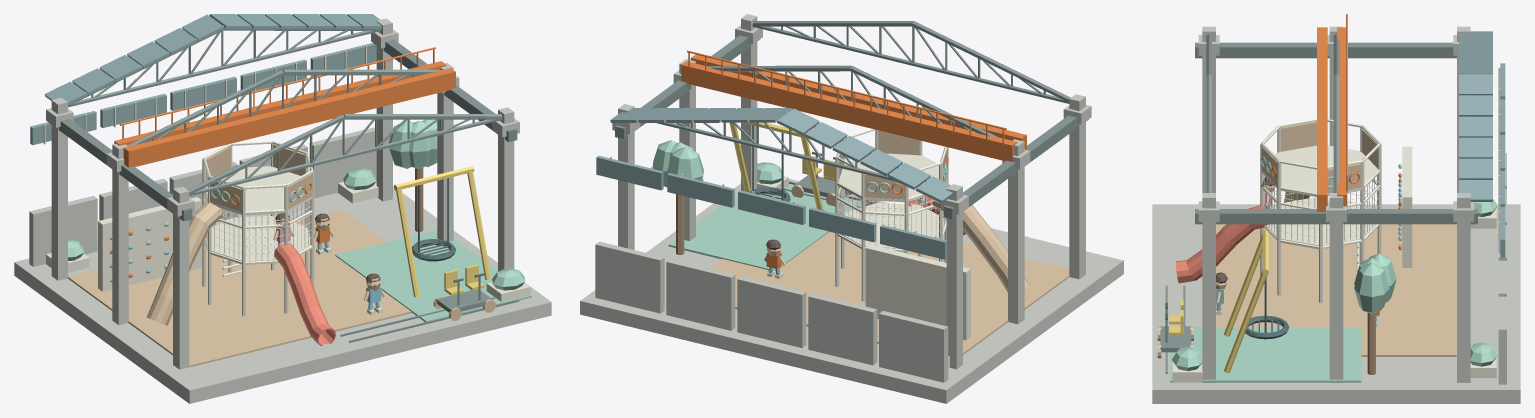
File: dot-railpark.glb
3 renders of one model, left to right at view 1: azimuth 30°, elevation 25°; view 2: azimuth 150°, elevation 25°; view 3: azimuth 270°, elevation 25°, orthographic. The views are drawn at different scales.
Parts seen in each view (by area): view 1: Static_stone, Static_sand, Static_steel, Static_cream, Static_glass, Static_orange, Static_mint, Static_red, Static_yellow, PedalCartPlatform, NestSwingRim; view 2: Static_stone, Static_glass, Static_sand, Static_steel, Static_cream, Static_orange, Static_mint, Static_yellow, Static_wood, PedalCartPlatform; view 3: Static_stone, Static_sand, Static_mint, Static_cream, Static_steel, Static_glass, Static_orange, Static_yellow, Static_red, PedalCartPlatform, NestSwingRim, Static_wood.
Part boxes in pixels (x1,y1,x2,y2): Static_stone: [14, 18, 551, 403]; Static_sand: [68, 144, 411, 367]; Static_steel: [49, 25, 519, 342]; Static_cream: [43, 45, 530, 315]; Static_glass: [30, 14, 381, 145]; Static_orange: [110, 47, 455, 277]; Static_mint: [51, 119, 531, 321]; Static_red: [274, 242, 335, 346]; Static_yellow: [394, 166, 491, 297]; PedalCartPlatform: [436, 289, 493, 312]; NestSwingRim: [412, 239, 455, 261]; Static_stone: [580, 14, 1123, 403]; Static_glass: [596, 108, 952, 259]; Static_sand: [709, 130, 1069, 354]; Static_steel: [615, 21, 1088, 219]; Static_cream: [610, 129, 970, 367]; Static_orange: [681, 50, 1026, 193]; Static_mint: [652, 140, 946, 270]; Static_yellow: [729, 122, 822, 210]; Static_wood: [676, 194, 684, 254]; PedalCartPlatform: [794, 175, 847, 196]; Static_stone: [1152, 26, 1520, 403]; Static_sand: [1202, 121, 1456, 356]; Static_mint: [1170, 161, 1497, 382]; Static_cream: [1172, 67, 1500, 382]; Static_steel: [1165, 34, 1477, 373]; Static_glass: [1459, 31, 1505, 257]; Static_orange: [1271, 14, 1401, 249]; Static_yellow: [1224, 230, 1268, 373]; Static_red: [1175, 204, 1268, 283]; PedalCartPlatform: [1160, 326, 1191, 352]; NestSwingRim: [1245, 315, 1289, 339]; Static_wood: [1367, 312, 1375, 374].
Bounding box in the file's own units: 6.2 × 3.71 × 5.2.
